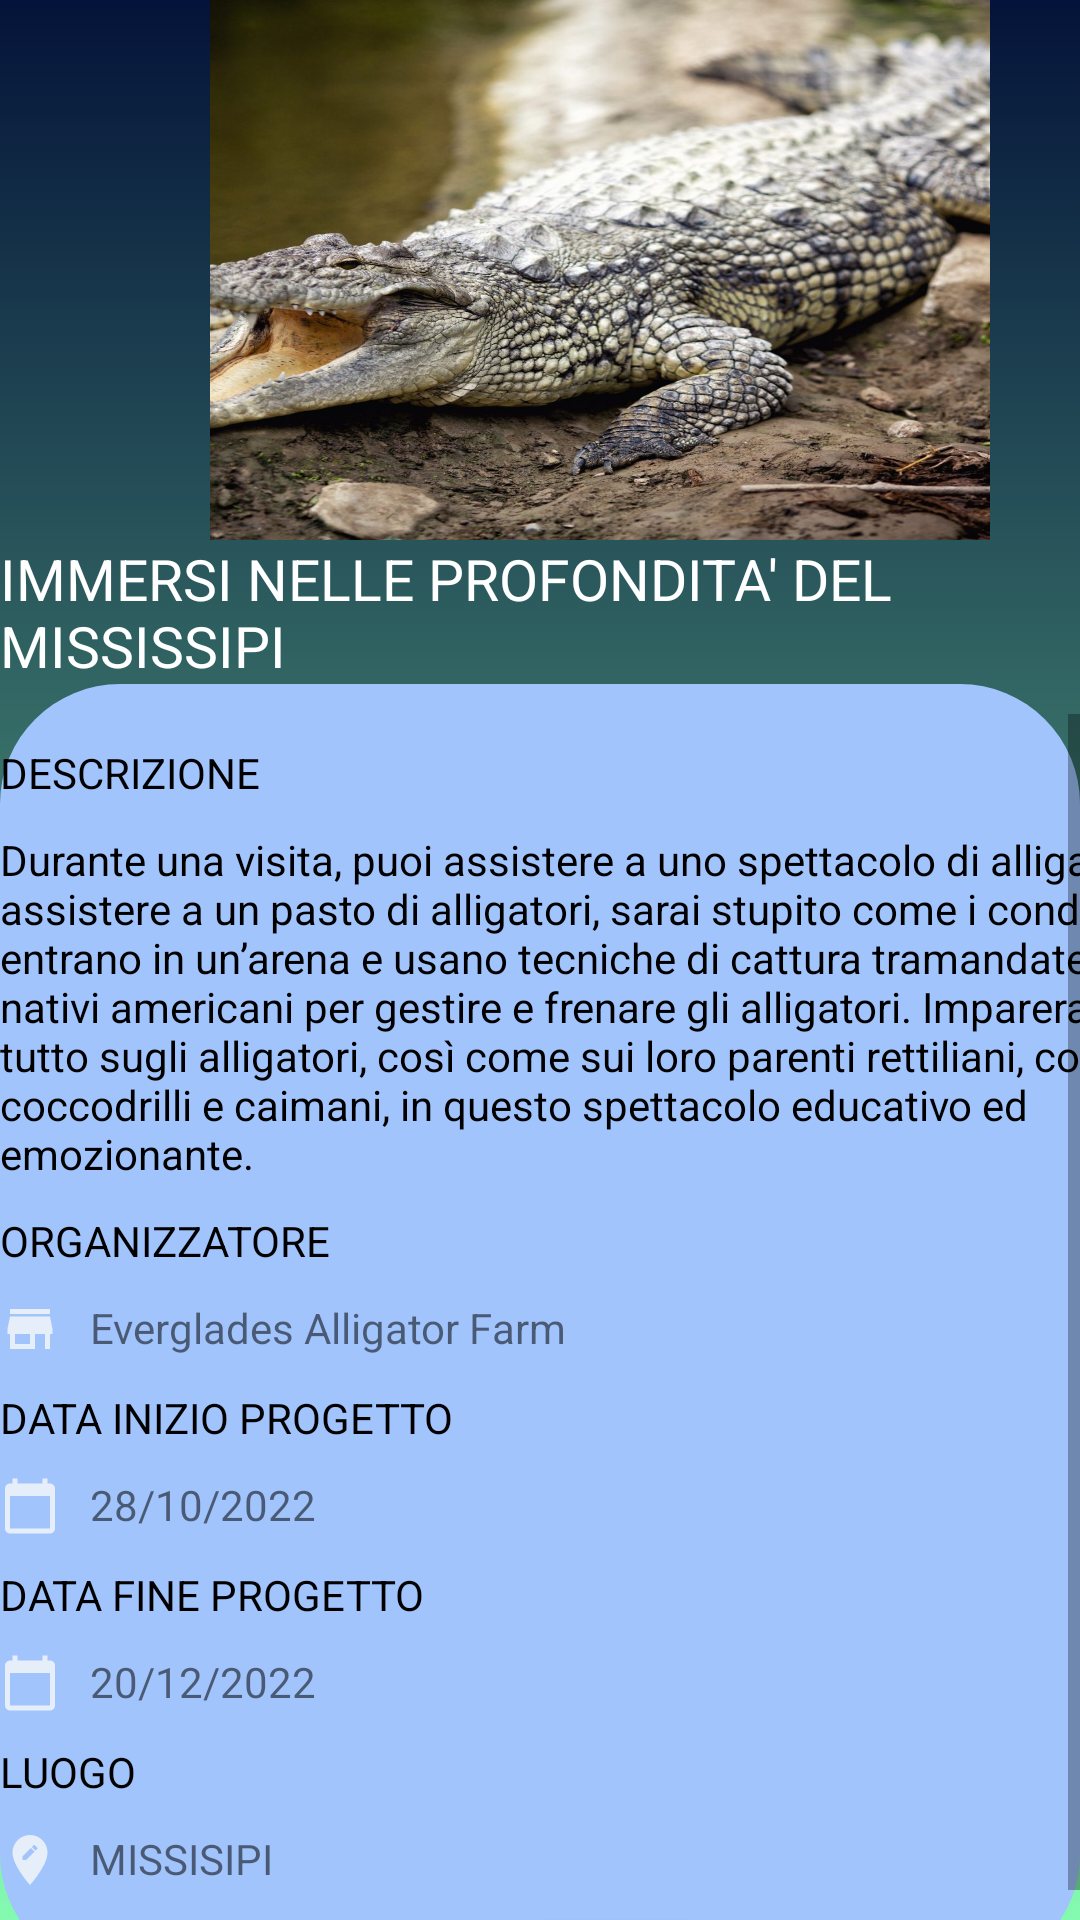

Icons on this 1080×1920 Android screen, each with the point to tap as point (x, y):
loc: point (30, 1860)
store: point (30, 1329)
